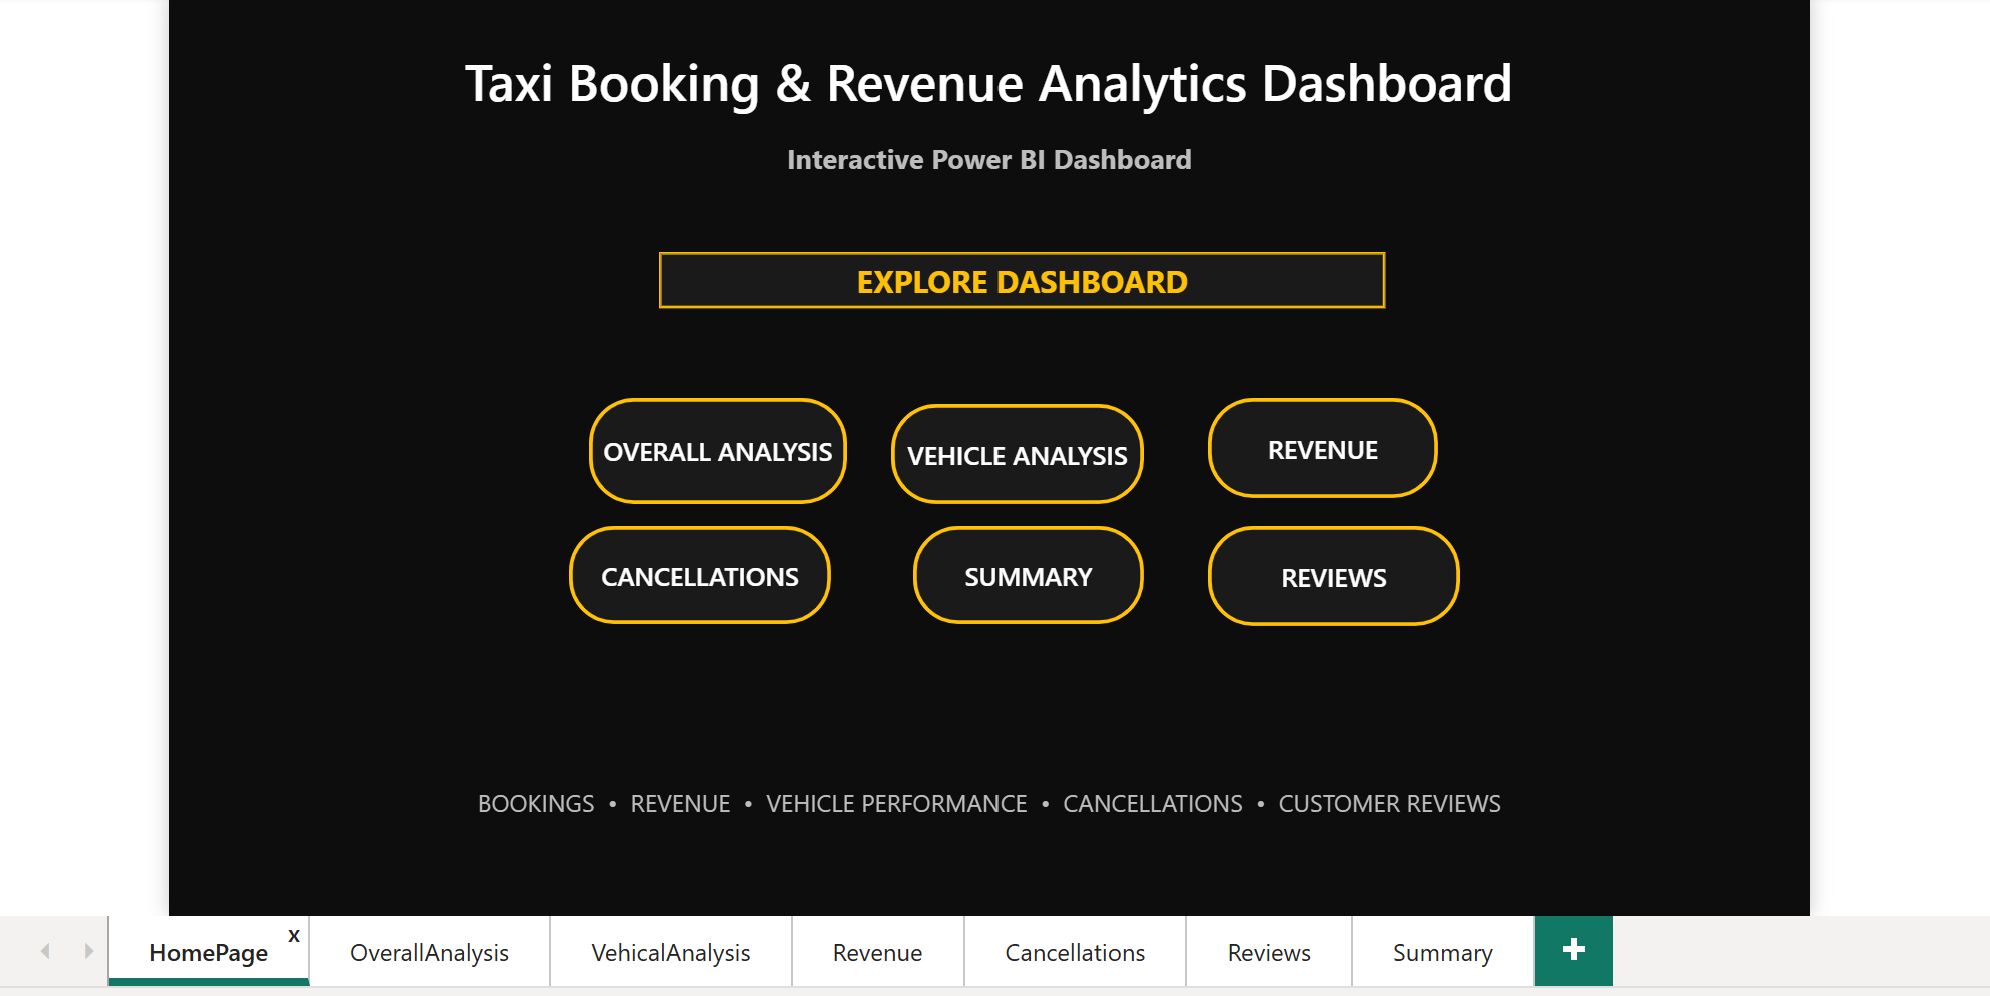

The page's visual inventory and layout, read from the dashboard file:
{"tool":"powerbi","page":{"name":"HomePage","canvas":[1280,720],"ordinal":0},"visuals":[{"type":"actionButton","box":[328,315.5,201.5,82.8],"z":0},{"type":"actionButton","box":[563,320.2,196.8,78.1],"z":1000},{"type":"actionButton","box":[810.6,315.5,179.6,78.1],"z":2000},{"type":"actionButton","box":[312.4,415.4,204.6,76.5],"z":3000},{"type":"actionButton","box":[810.6,415.4,196.8,78.1],"z":4000},{"type":"actionButton","box":[581,415.4,179.6,76.5],"z":5000},{"type":"shape","box":[0,30.7,1280,72.5],"z":6000},{"type":"shape","box":[0,103.2,1284.4,46.1],"z":7000},{"type":"shape","box":[382,202,566.4,43.9],"z":8000},{"type":"textbox","box":[0,613.8,1280.7,43.7],"z":9000}]}

Visuals, with their boxes on the page's 1280x720 design canvas (x1, y1, x2, y2). These are canvas units, not pixel positions in the 1990x996 screenshot, which may show the page scaled, cropped or inside an application window:
actionButton: {"left": 328, "top": 316, "right": 530, "bottom": 398}
actionButton: {"left": 563, "top": 320, "right": 760, "bottom": 398}
actionButton: {"left": 811, "top": 316, "right": 990, "bottom": 394}
actionButton: {"left": 312, "top": 415, "right": 517, "bottom": 492}
actionButton: {"left": 811, "top": 415, "right": 1007, "bottom": 494}
actionButton: {"left": 581, "top": 415, "right": 761, "bottom": 492}
shape: {"left": 0, "top": 31, "right": 1280, "bottom": 103}
shape: {"left": 0, "top": 103, "right": 1284, "bottom": 149}
shape: {"left": 382, "top": 202, "right": 948, "bottom": 246}
textbox: {"left": 0, "top": 614, "right": 1281, "bottom": 658}
